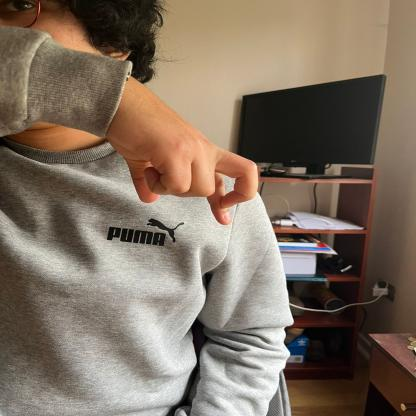P: (99, 64, 262, 227)
